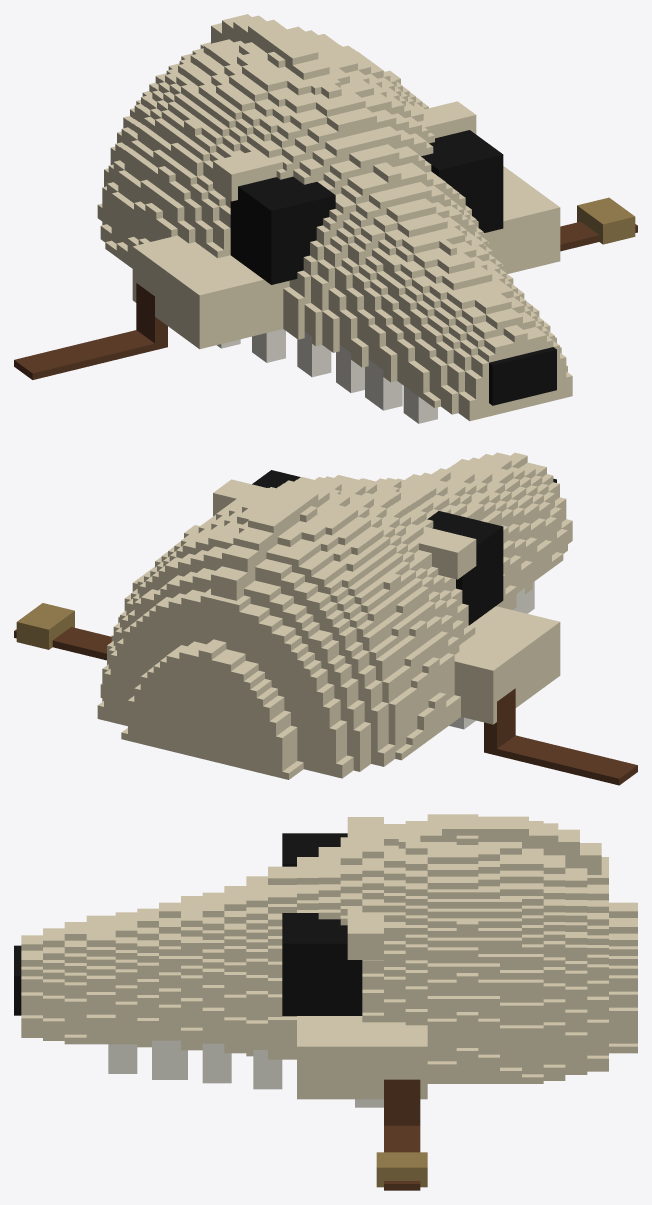
The model's file is helmet_skull.glb.
The picture shows the model from 3 angles, top to bottom: view 1: azimuth 30°, elevation 25°; view 2: azimuth 150°, elevation 25°; view 3: azimuth 270°, elevation 25°; orthographic projection. The views are drawn at different scales.
Visible parts, largest first — view 1: helmet_skull:compound; view 2: helmet_skull:compound; view 3: helmet_skull:compound.
Part boxes in pixels (<box>): helmet_skull:compound: <box>14,14,637,423</box>; helmet_skull:compound: <box>14,452,637,785</box>; helmet_skull:compound: <box>14,814,637,1190</box>.
Bounding box in the file's own units: 0.376 × 0.136 × 0.344.
